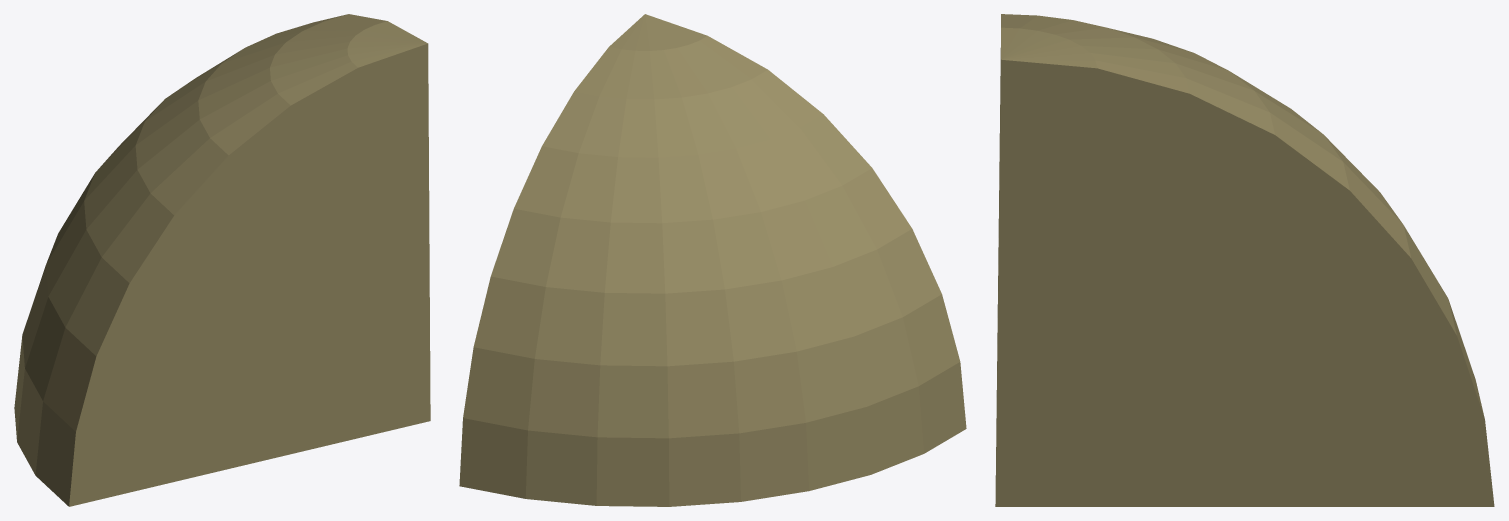
The model's file is potato2.fbx.
3 renders of one model, left to right at view 1: azimuth 30°, elevation 25°; view 2: azimuth 150°, elevation 25°; view 3: azimuth 270°, elevation 25°, orthographic. The views are drawn at different scales.
Parts seen in each view (by area): view 1: Sphere.001; view 2: Sphere.001; view 3: Sphere.001.
Boxes of the visible parts, x1,y1,x2,y2 form: Sphere.001: (14,14,430,506); Sphere.001: (459,14,966,506); Sphere.001: (995,14,1494,506).
Bounding box in the file's own units: 100 × 100 × 101.
